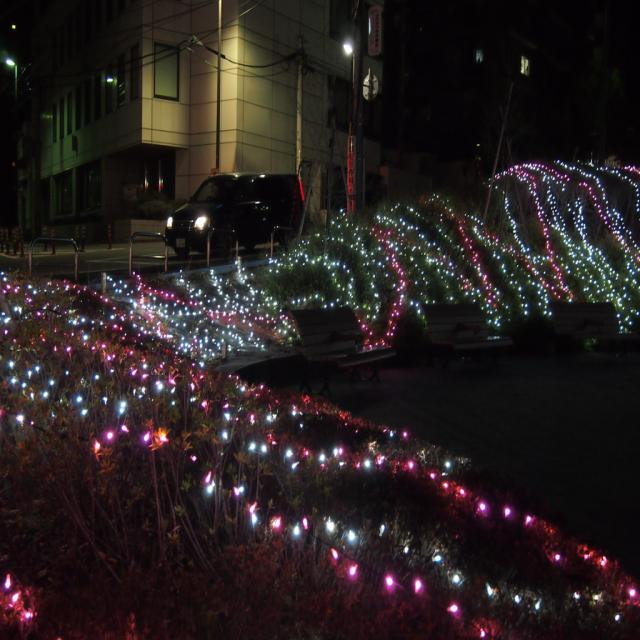car: (159, 167, 303, 263)
